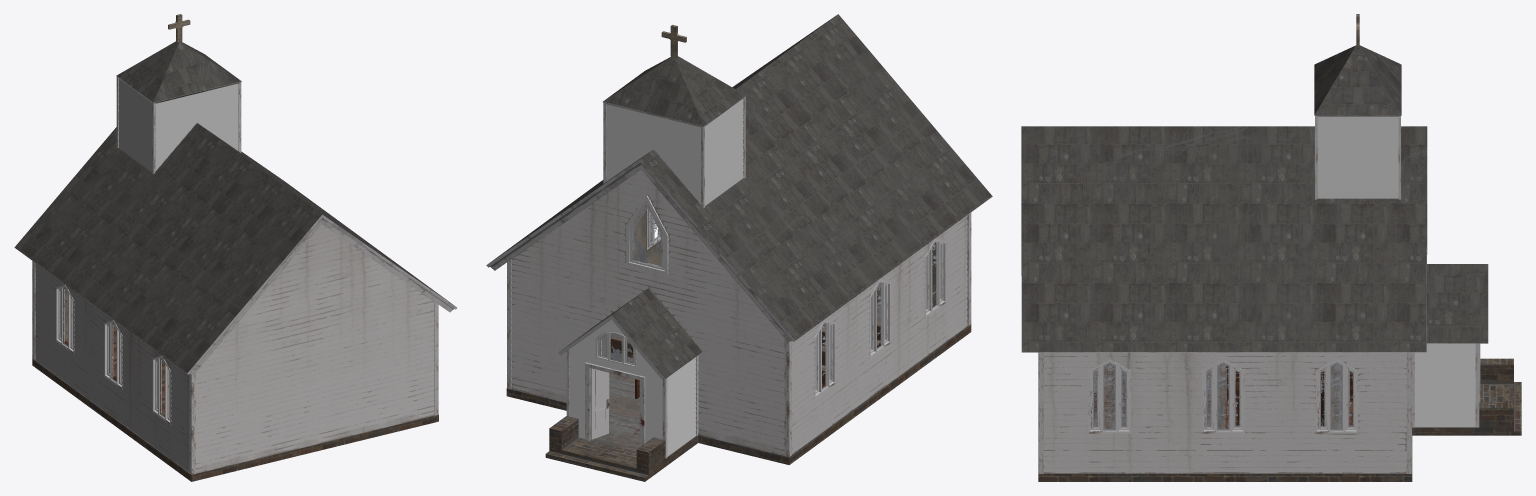
Rendered from Old_Church.fbx.
3 renders of one model, left to right at view 1: azimuth 30°, elevation 25°; view 2: azimuth 150°, elevation 25°; view 3: azimuth 270°, elevation 25°, orthographic. The views are drawn at different scales.
Visible parts, largest first — view 1: Panels Siding, Roof 1, House Top.001, Roof 3.001, Floor, Window.001, Beam 1, Beam 4; view 2: Roof 1, Panels Siding, Floor, House Top.001, Panels 2, Roof 3.001, Roof 4, Window.001, Beam 1, Window, Door.001, DoorFrame (+5 smaller); view 3: Roof 1, Panels Siding, Floor, Window.001, House Top.001, Roof 3.001, Panels 2, Roof 4, Beam 1, Pew.
Part boxes in pixels (left/top/right/bottom): Panels Siding: left=35, top=224, right=434, bottom=473; Roof 1: left=14, top=123, right=457, bottom=374; House Top.001: left=118, top=78, right=238, bottom=172; Roof 3.001: left=116, top=41, right=241, bottom=103; Floor: left=32, top=358, right=438, bottom=481; Window.001: left=56, top=285, right=171, bottom=424; Beam 1: left=32, top=261, right=438, bottom=474; Beam 4: left=116, top=77, right=241, bottom=174; Roof 1: left=486, top=14, right=992, bottom=342; Panels Siding: left=511, top=169, right=967, bottom=455; Floor: left=506, top=302, right=971, bottom=481; House Top.001: left=606, top=98, right=743, bottom=205; Panels 2: left=569, top=319, right=696, bottom=456; Roof 3.001: left=603, top=56, right=745, bottom=126; Roof 4: left=558, top=288, right=702, bottom=379; Window.001: left=647, top=208, right=945, bottom=398; Beam 1: left=507, top=212, right=971, bottom=456; Window: left=626, top=195, right=668, bottom=274; Door.001: left=590, top=368, right=608, bottom=439; DoorFrame: left=585, top=362, right=645, bottom=446; Roof 1: left=1021, top=126, right=1427, bottom=352; Panels Siding: left=1044, top=352, right=1406, bottom=473; Floor: left=1038, top=353, right=1521, bottom=481; Window.001: left=1088, top=359, right=1358, bottom=433; House Top.001: left=1317, top=116, right=1398, bottom=198; Roof 3.001: left=1314, top=45, right=1401, bottom=115; Panels 2: left=1414, top=343, right=1475, bottom=427; Roof 4: left=1427, top=264, right=1488, bottom=343; Beam 1: left=1038, top=352, right=1411, bottom=473; Pew: left=1225, top=366, right=1352, bottom=428.
Size of the model in its own units: 888 by 1057 by 1212.
